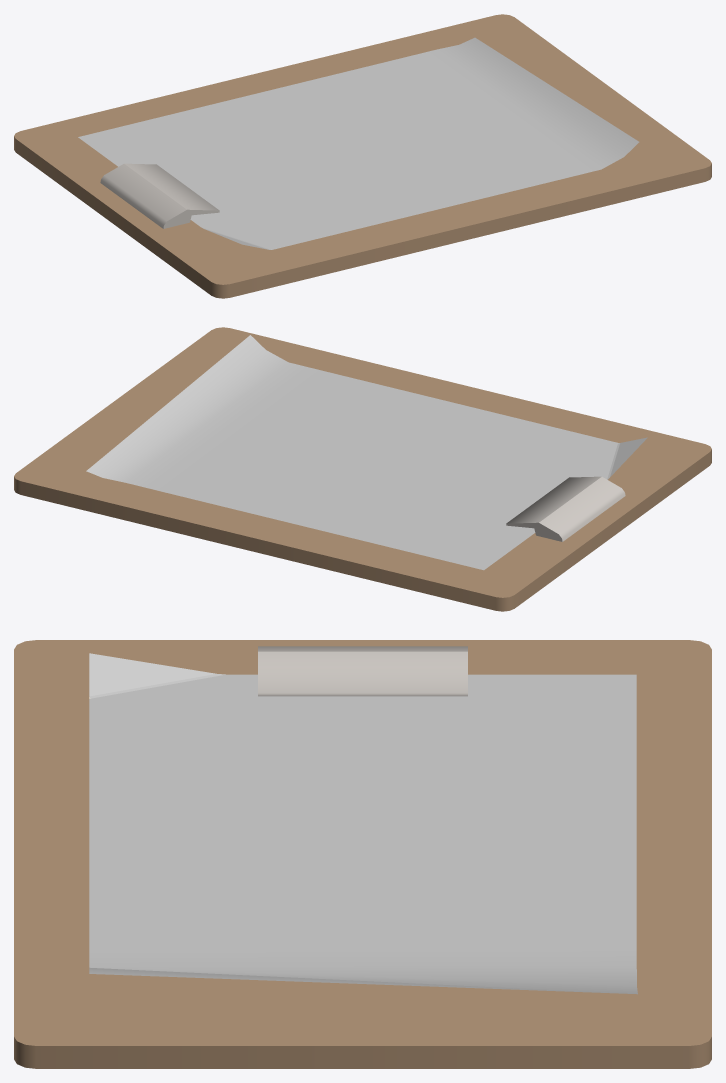
File: clipboard.fbx
3 renders of one model, top to bottom at view 1: azimuth 30°, elevation 25°; view 2: azimuth 150°, elevation 25°; view 3: azimuth 270°, elevation 25°, orthographic. The views are drawn at different scales.
Parts seen in each view (by area): view 1: Paper; view 2: Paper; view 3: Paper.
Boxes of the visible parts, x1,y1,x2,y2 form: Paper: (14, 14, 711, 298); Paper: (14, 327, 711, 611); Paper: (14, 640, 711, 1068).
Bounding box in the file's own units: 27.53 × 1.79 × 20.
